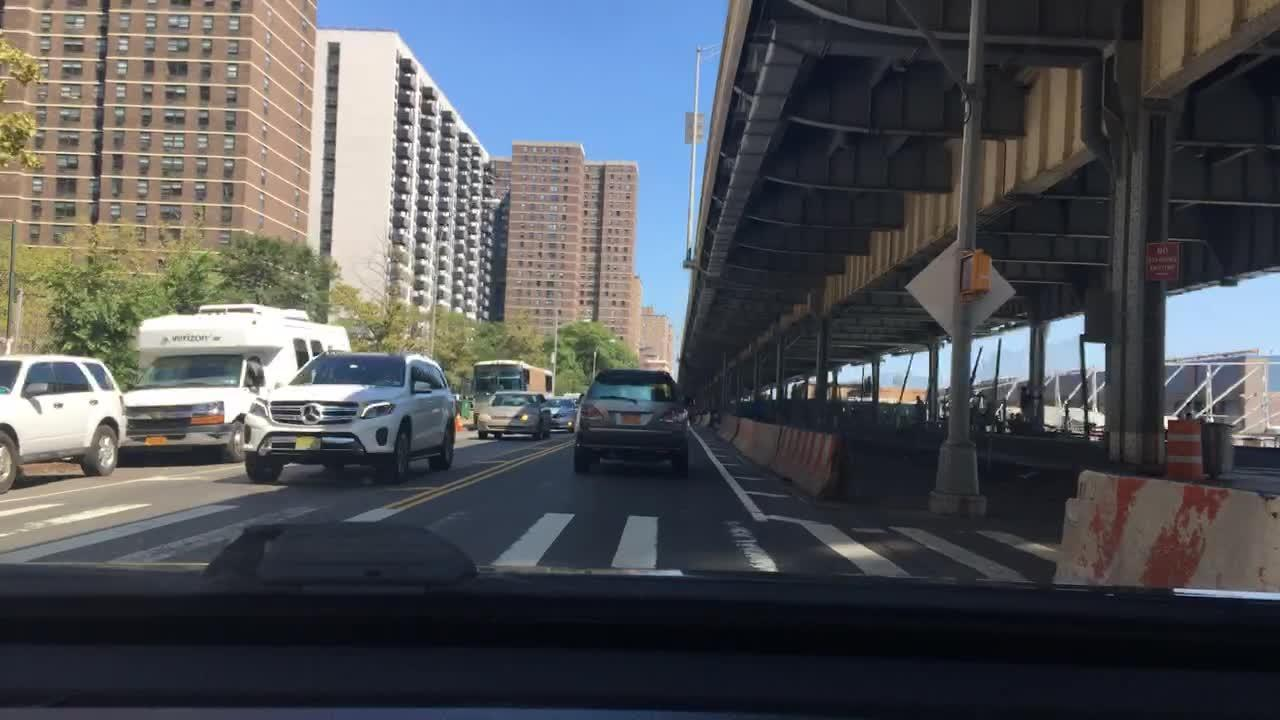Mercedes: (299, 401, 322, 425)
